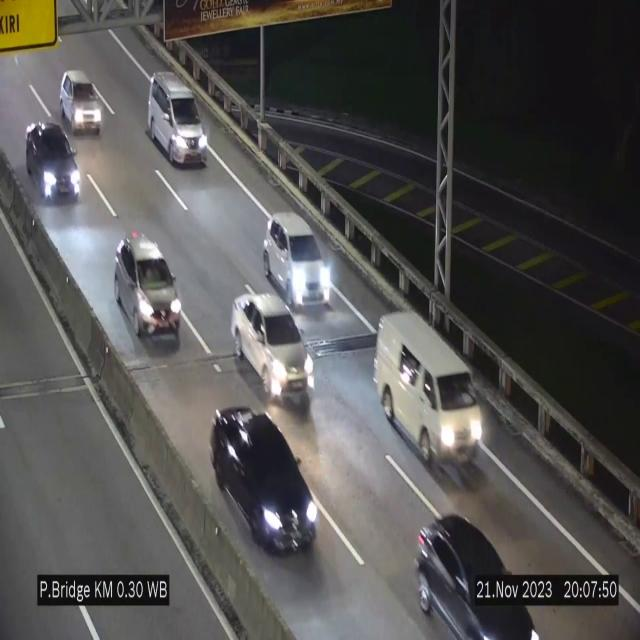Car: (374, 310, 486, 483), (404, 503, 538, 640), (211, 408, 319, 552), (231, 294, 314, 406), (115, 233, 181, 349), (263, 212, 337, 308), (148, 71, 208, 164), (26, 120, 80, 202), (60, 70, 102, 134)
